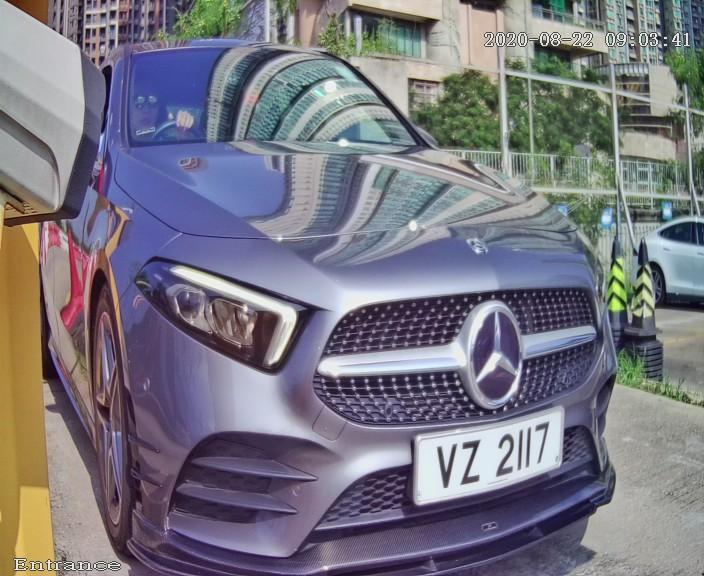Car: (16, 6, 657, 576)
License Plate: (397, 377, 589, 526)
